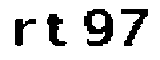7: (119, 8, 150, 50)
9: (81, 8, 116, 50)
r: (11, 16, 37, 49)
t: (43, 9, 71, 52)
